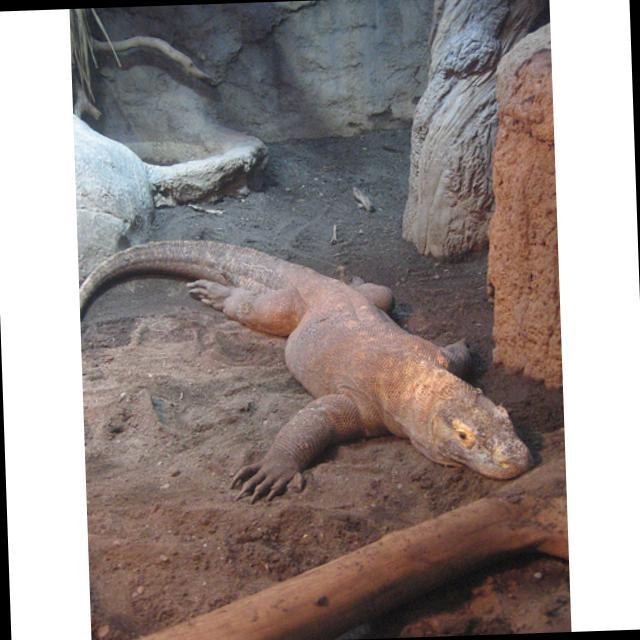KomodoDragon: (77, 224, 528, 503)
